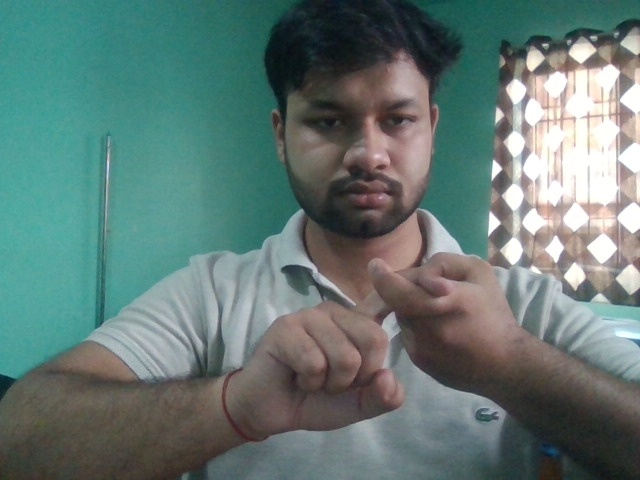Friend: (237, 249, 529, 438)
